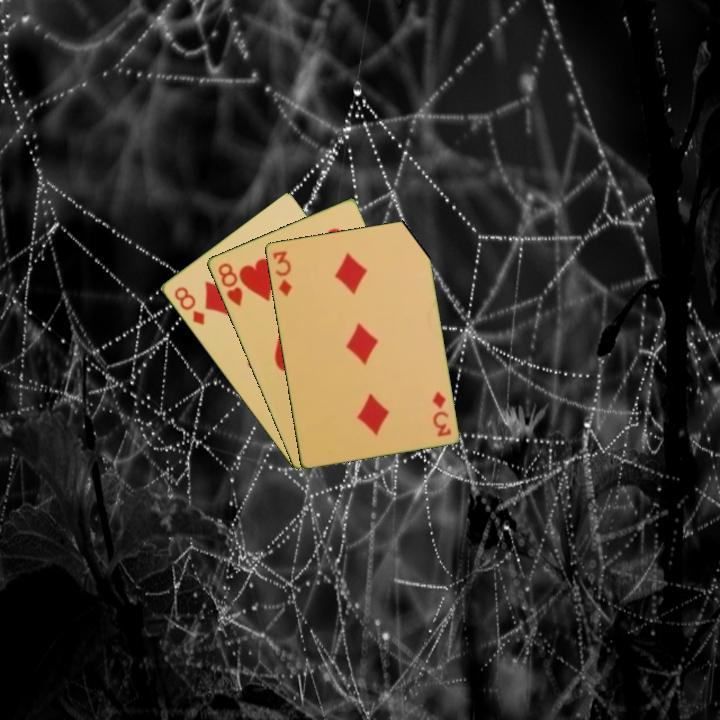3d: (428, 388, 454, 439), (269, 247, 294, 299)
8d: (170, 283, 207, 328)
8h: (214, 259, 245, 309)
